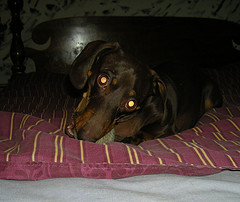tennis ball: (70, 112, 121, 152)
